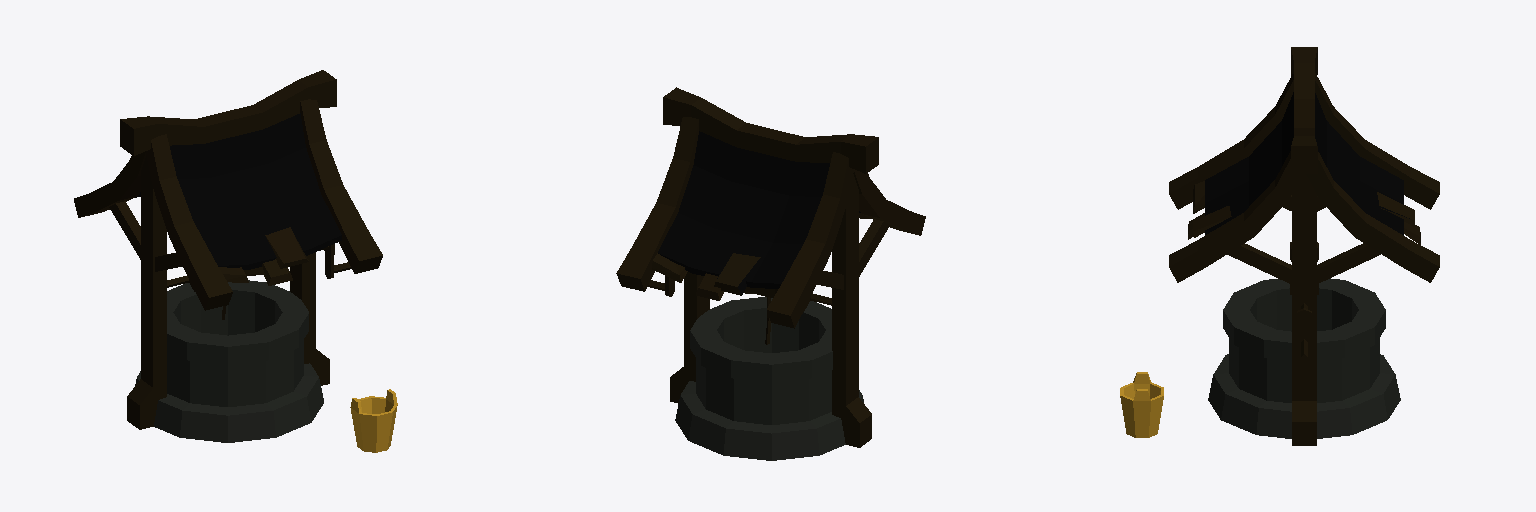
File: WellModified.obj
3 views of the same model, side by side, from view 1: azimuth 30°, elevation 25°; view 2: azimuth 150°, elevation 25°; view 3: azimuth 270°, elevation 25° (orthographic).
Parts seen in each view (by area): view 1: Wells_Mesh; view 2: Wells_Mesh; view 3: Wells_Mesh.
Boxes of the visible parts, x1=… form: Wells_Mesh: x1=74, y1=70, x2=397, y2=452; Wells_Mesh: x1=616, y1=87, x2=925, y2=460; Wells_Mesh: x1=1120, y1=47, x2=1439, y2=445.
Size of the model in its own units: 3.78 by 4.68 by 4.47.